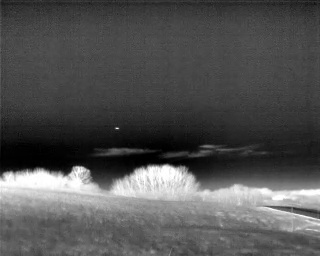AIRPLANE: (114, 125, 121, 131)
